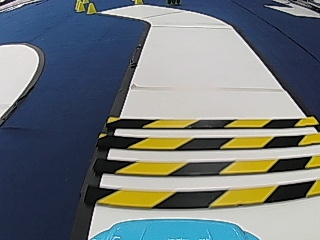bump: (87, 105, 315, 212)
